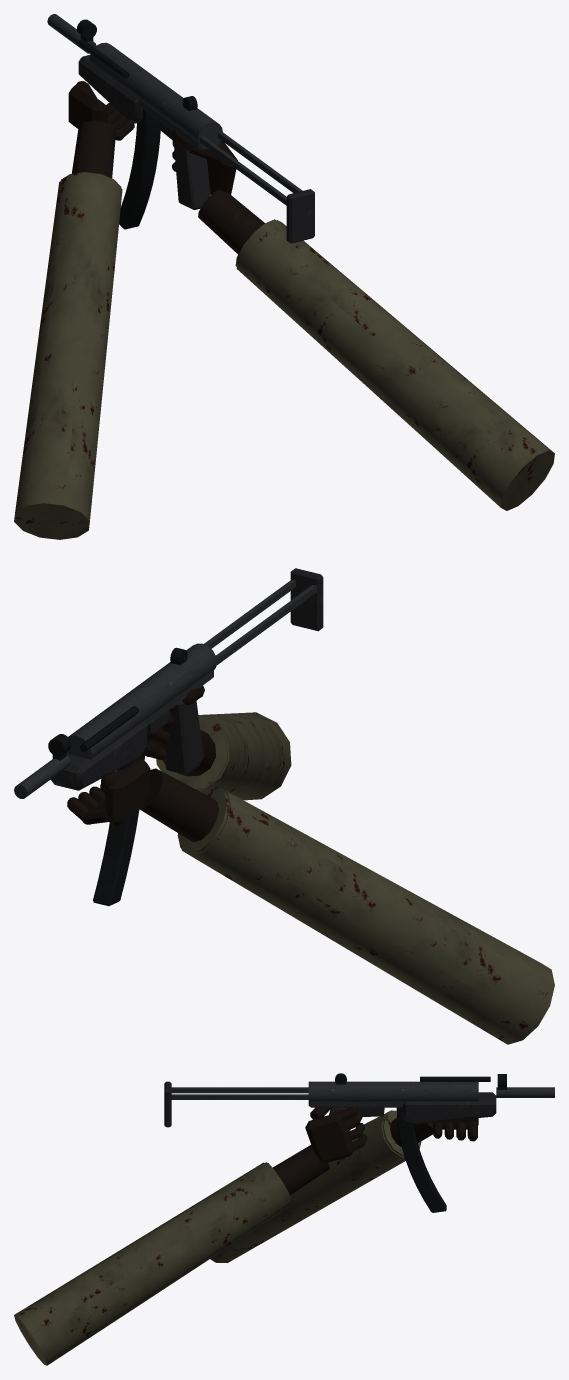
3 views of the same model, one above another, from view 1: azimuth 30°, elevation 25°; view 2: azimuth 150°, elevation 25°; view 3: azimuth 270°, elevation 25° (orthographic). The views are drawn at different scales.
Parts seen in each view (by area): view 1: Body, ArmL, Mag; view 2: ArmL, Body, Mag; view 3: Body, ArmL, Mag.
Part boxes in pixels (x1,y1,x2,y2): Body: (47, 14, 554, 510); ArmL: (14, 81, 134, 539); Mag: (119, 109, 160, 229); ArmL: (67, 758, 554, 1044); Body: (14, 568, 323, 800); Mag: (93, 749, 145, 906); Body: (14, 1073, 554, 1365); ArmL: (210, 1110, 478, 1262); Mag: (396, 1107, 446, 1212).
Size of the model in its own units: 0.6451 by 0.5003 by 0.9226.
Materials: 5 (5 with a texture image).
